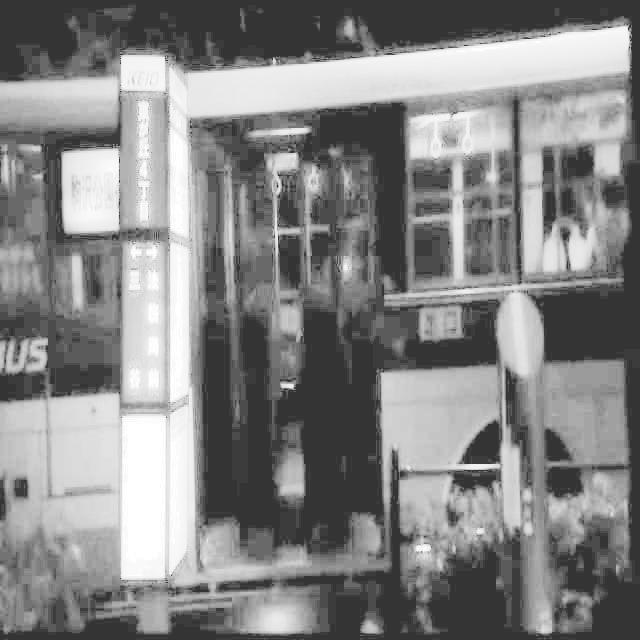Bus: (0, 65, 640, 598)
